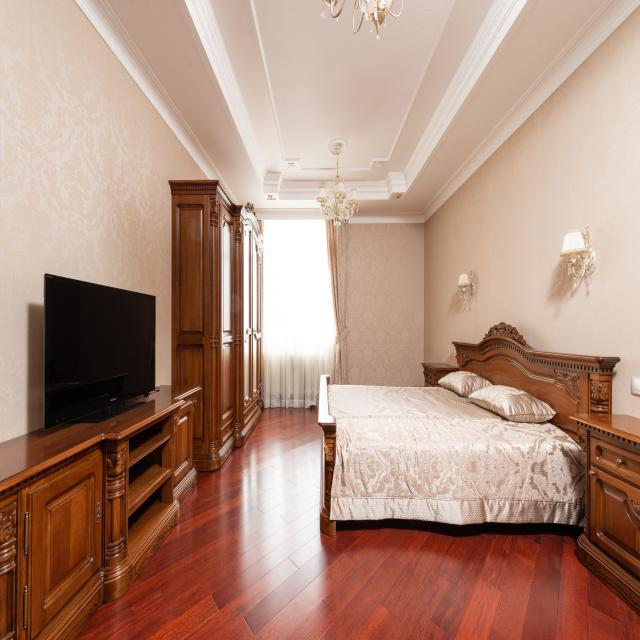floor: (70, 406, 640, 640)
wall: (424, 5, 640, 418), (347, 223, 425, 387)
